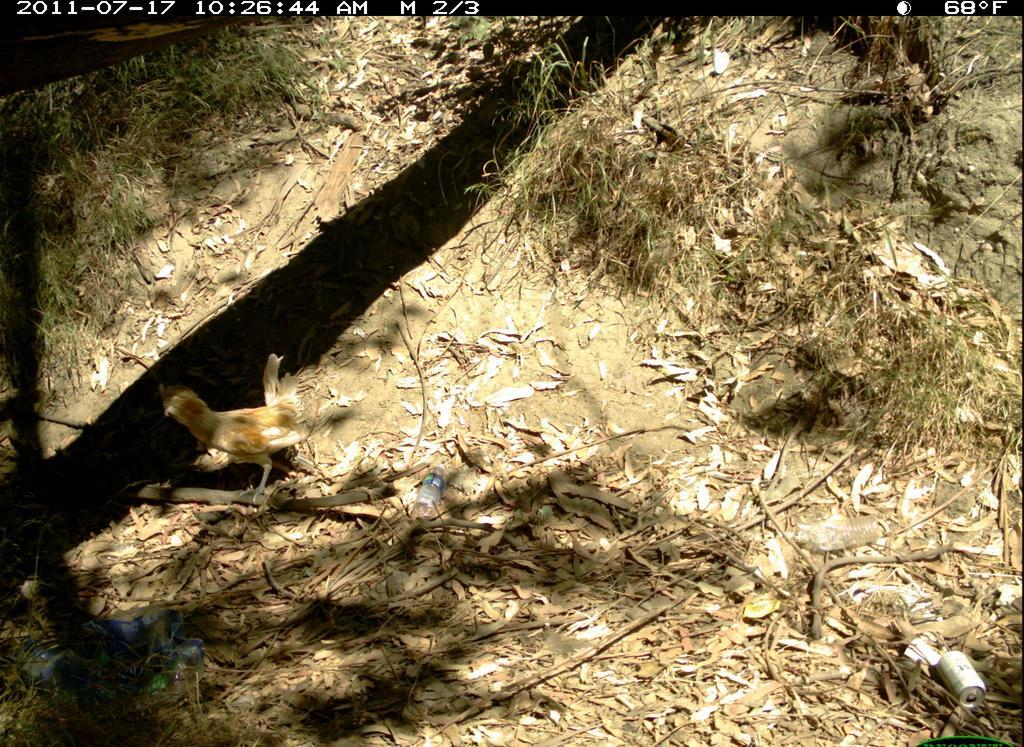bird: (156, 349, 316, 511)
